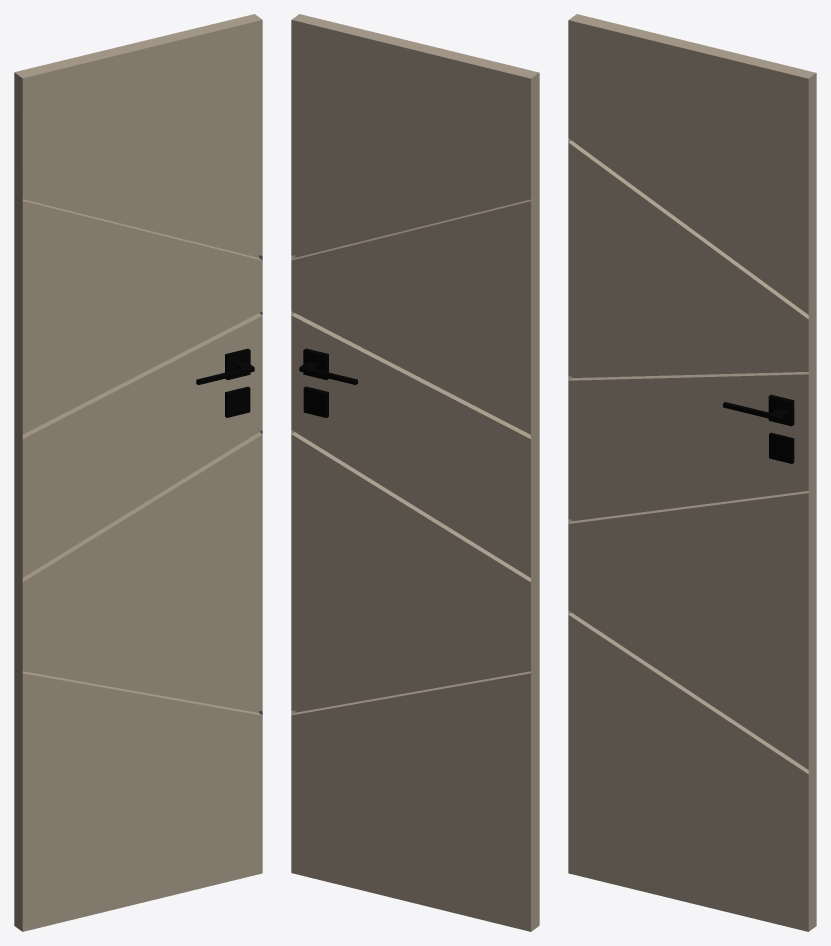
Rendered from RP_3_half_door.glb.
3 views of the same model, side by side, from view 1: azimuth 30°, elevation 25°; view 2: azimuth 150°, elevation 25°; view 3: azimuth 330°, elevation 25° (orthographic).
Parts seen in each view (by area): view 1: RP_3__half_door_; view 2: RP_3__half_door_; view 3: RP_3__half_door_.
Part boxes in pixels (box(x1,y1,x2,y2)): RP_3__half_door_: box(14, 14, 262, 931); RP_3__half_door_: box(291, 14, 539, 931); RP_3__half_door_: box(568, 14, 816, 931).
Bounding box in the file's own units: 0.5169 × 1.76 × 0.1089.
1 material, 1 textured.
